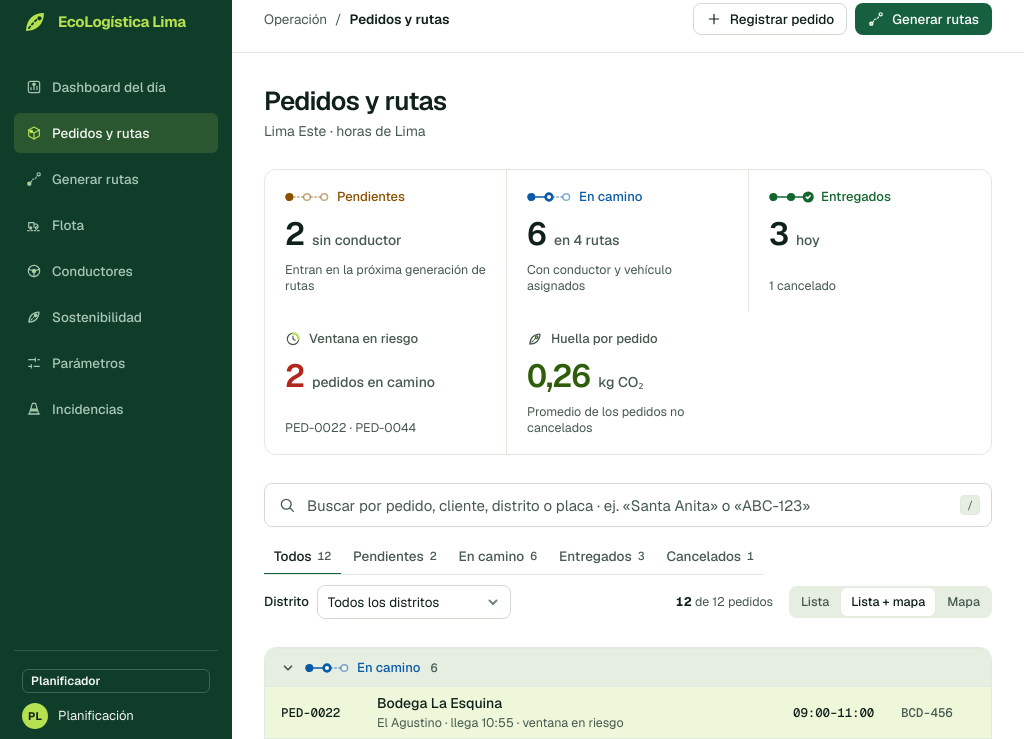
Test: OrderManagementView › el buscador filtra por placa y por distrito, y muestra el estado vacío
The image size is (1024, 739).
Type "fhj-890" into the search field named "Buscar pedidos" at (628, 505), box [264,483,992,527]
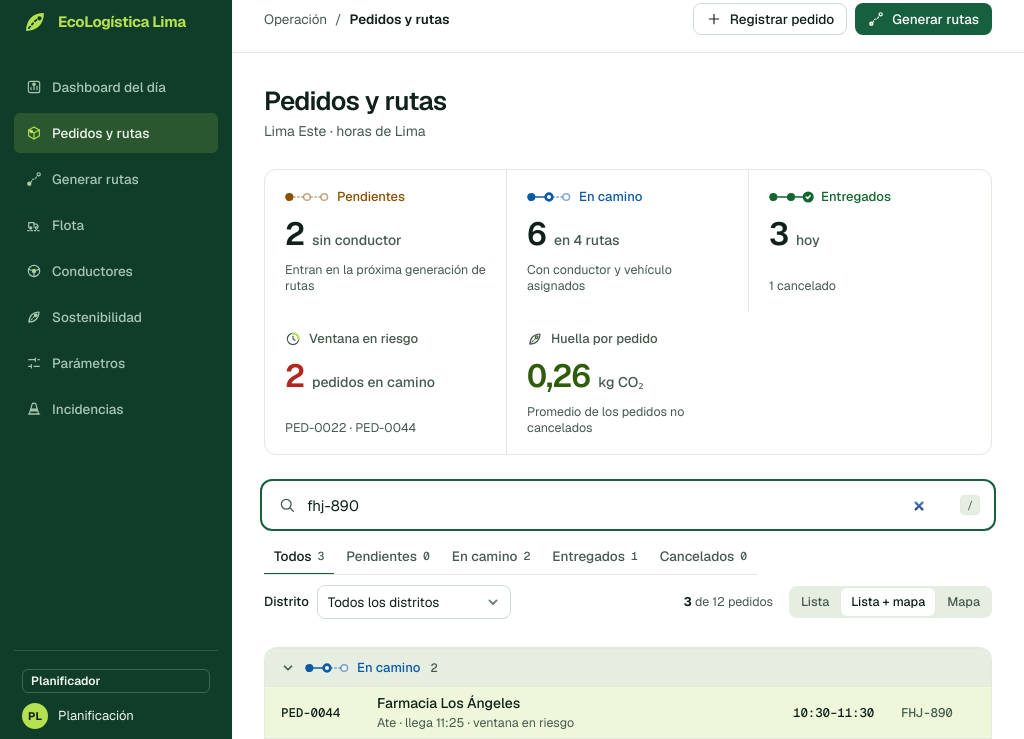
Expected: the text "PED-0044" is shown, [281,704,340,720]
Replace the text in the search field named "Buscar pedidos" with "santa anita" at (628, 505), box [264,483,992,527]
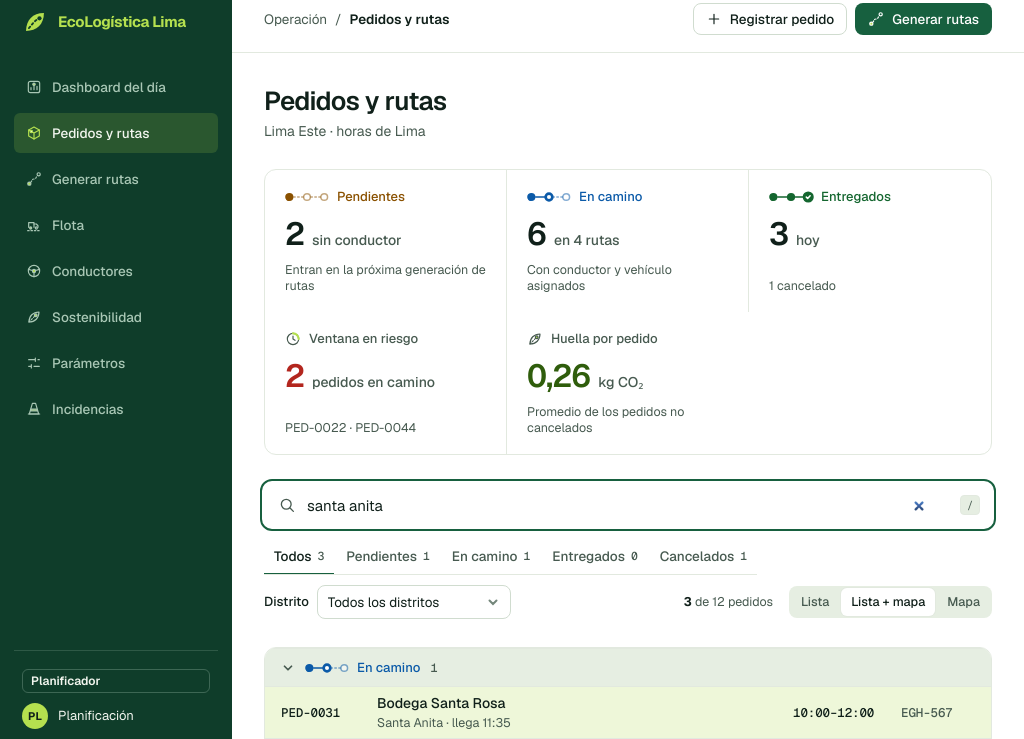
Replace the text in the search field named "Buscar pedidos" with "inexistente" at (628, 505), box [264,483,992,527]
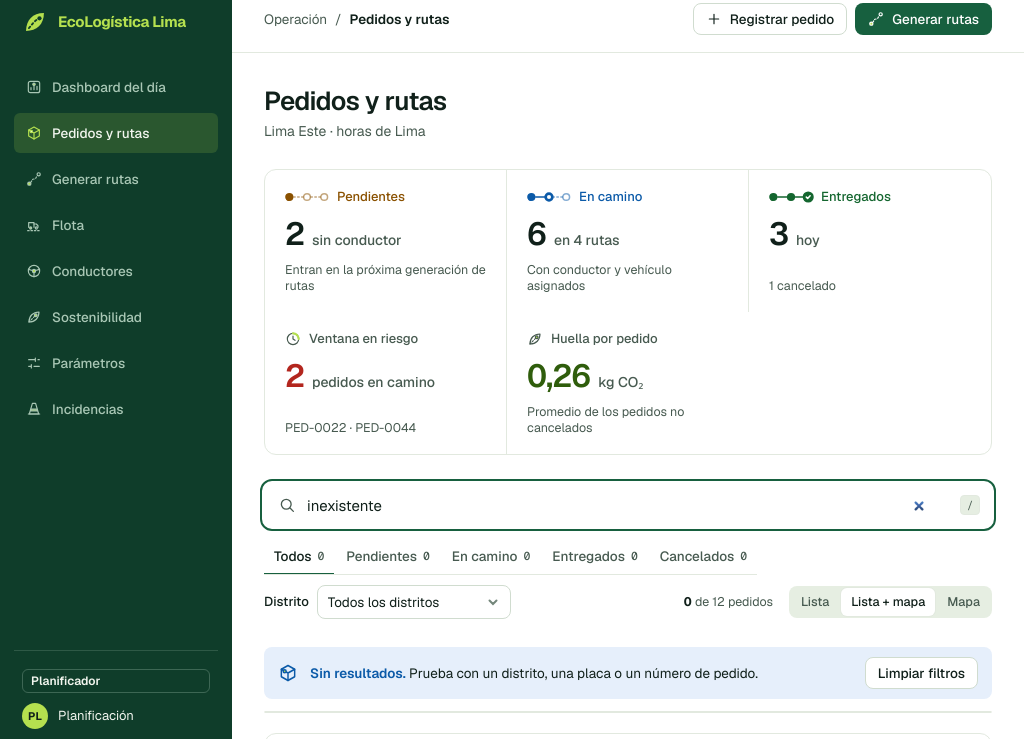
Result: the text "Sin resultados." is shown at [310,664,409,682]
Click the button "Limpiar filtros" at (921, 673), box [865,657,978,689]
(page scrolled)
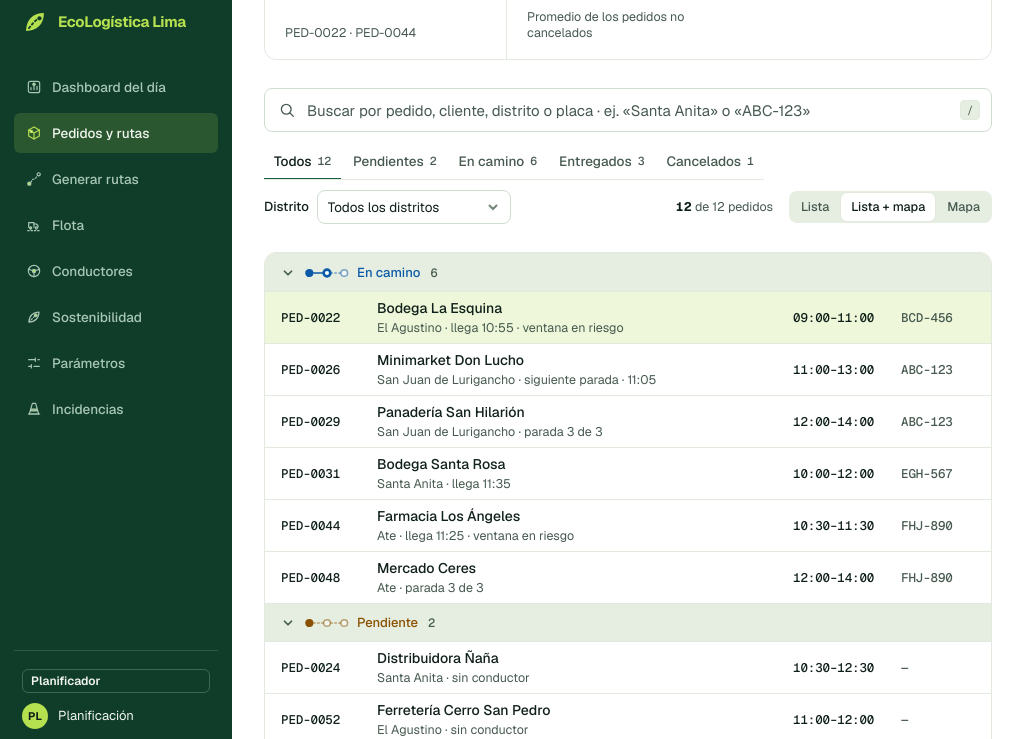
Result: the text "PED-0026" is shown at [281,360,340,378]
